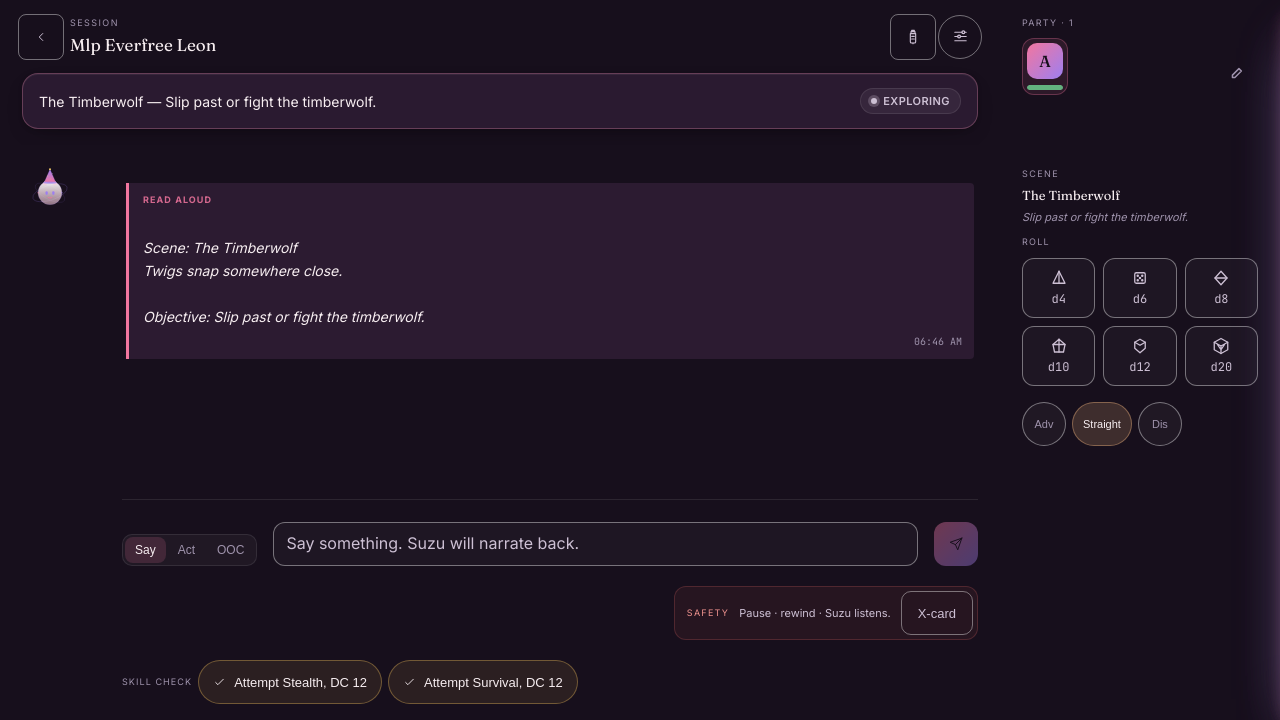
Test case: F4/CHECK-DOUBLE-RENDER — flag-OFF poll never re-appends check_resolved › a resolved check with event_seq set renders once; a legacy poll tick carrying a duplicate-shaped check_resolved event does not double it
What coordinates should you click on to do the following:
click the button "Attempt Stealth, DC 12"
I would click on:
 (290, 682)
Its box is [198,660,382,704].
Wait 4000 ms
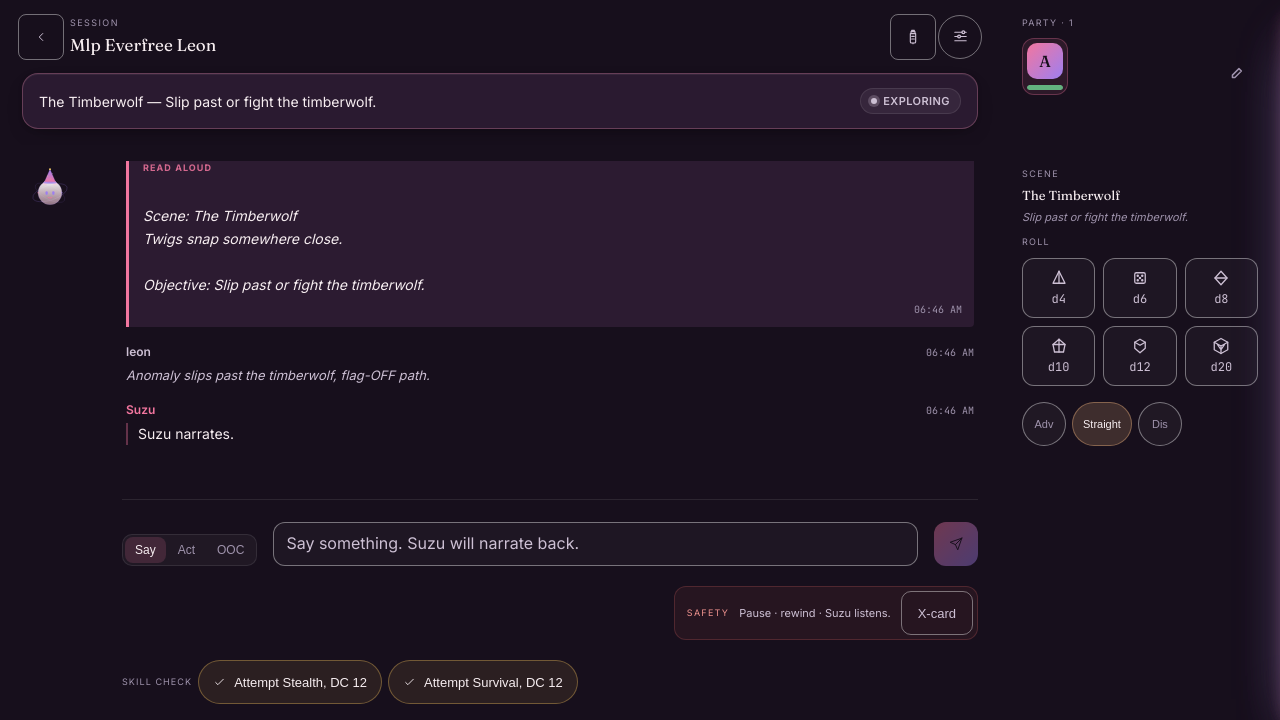
Expected: the text "Anomaly slips past the timberwolf, flag-OFF path." is shown once, [126,367,430,383]
